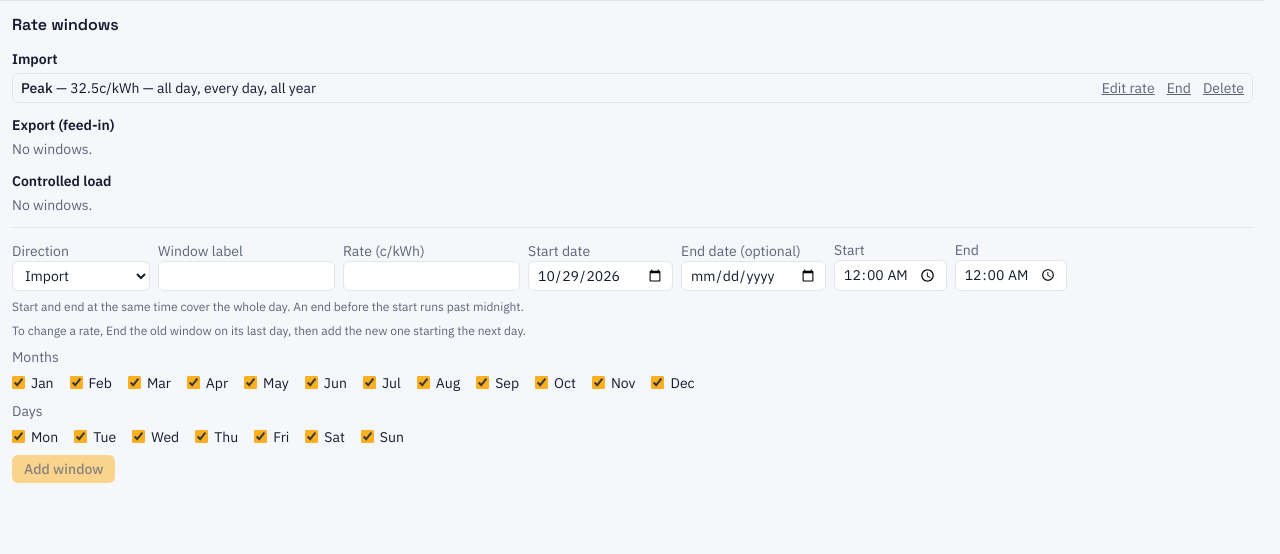
Test: RateWindowsPanel › Edit rate › cannot save an unchanged, negative or empty rate
Click the button with aria-label "Edit rate of Peak" at x=1128, y=88, box top-left (1102, 78), bottom-right (1155, 98)
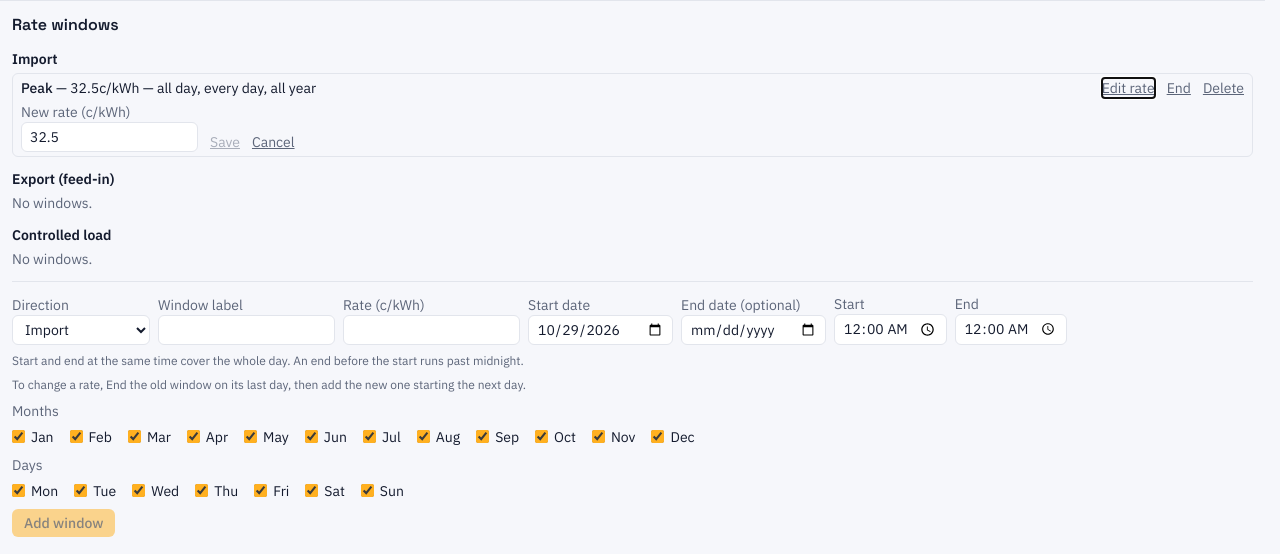
Result: the button "Save" is disabled at top-left (210, 132), bottom-right (240, 152)
Clear the number field labelled "New rate (c/kWh)" at x=110, y=137, box top-left (21, 122), bottom-right (198, 152)
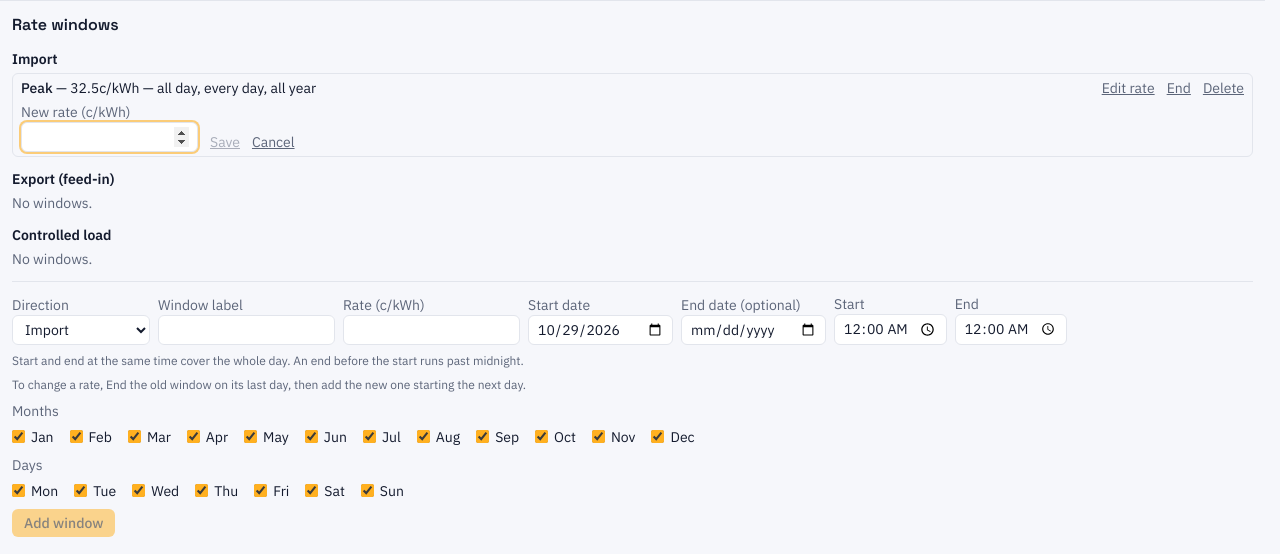
Result: the button "Save" is disabled at top-left (210, 132), bottom-right (240, 152)
Type "-1" into the number field labelled "New rate (c/kWh)" at x=110, y=137, box top-left (21, 122), bottom-right (198, 152)
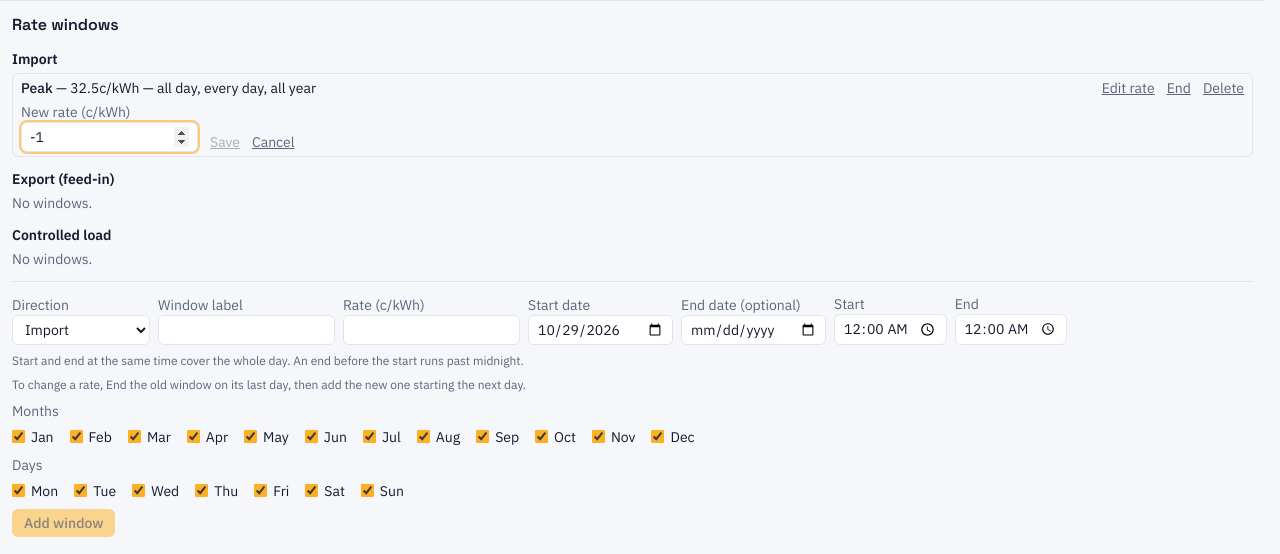
Result: the button "Save" is disabled at top-left (210, 132), bottom-right (240, 152)
Replace the text in the number field labelled "New rate (c/kWh)" with "40" at x=110, y=137, box top-left (21, 122), bottom-right (198, 152)
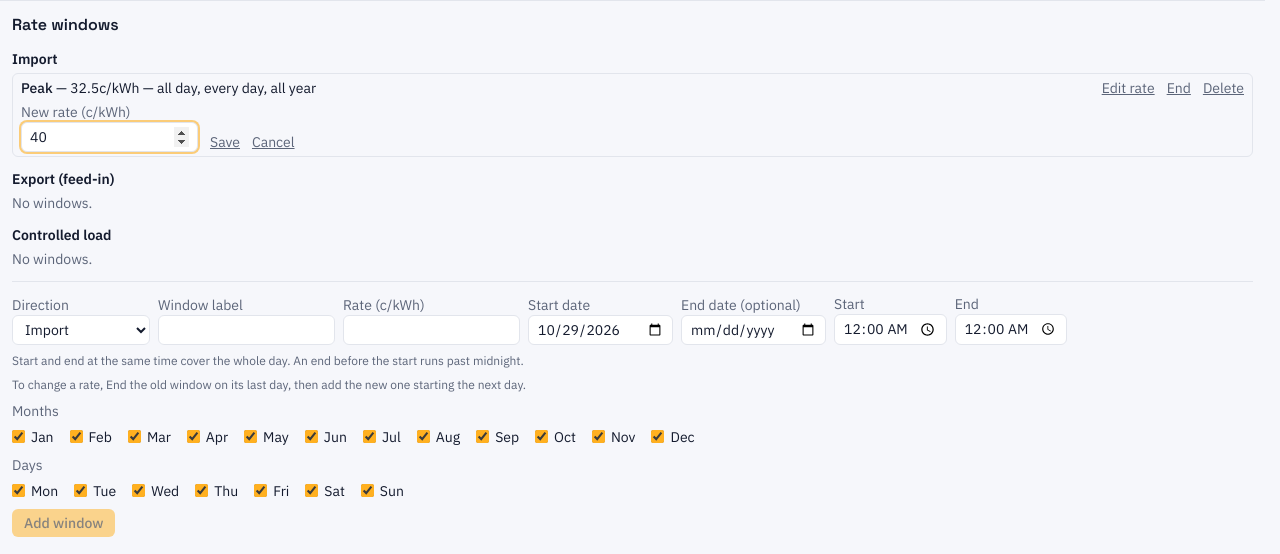
Result: the button "Save" is enabled at top-left (210, 132), bottom-right (240, 152)
